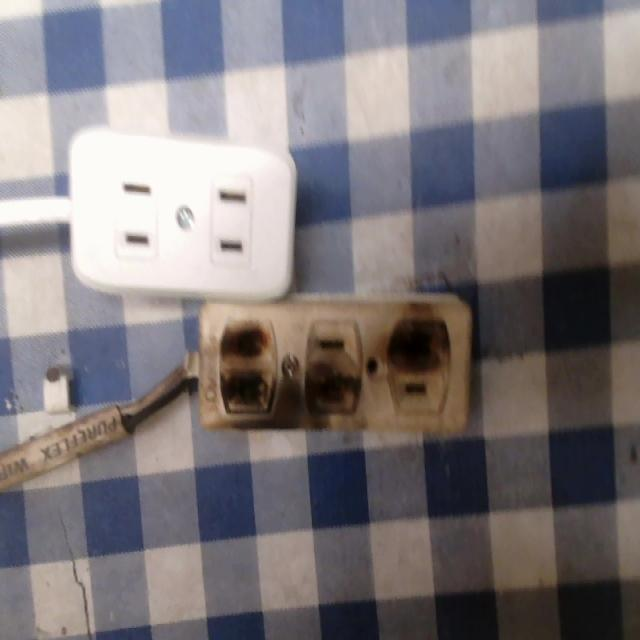-: (211, 312, 284, 427), (380, 312, 452, 373), (304, 361, 362, 431)
